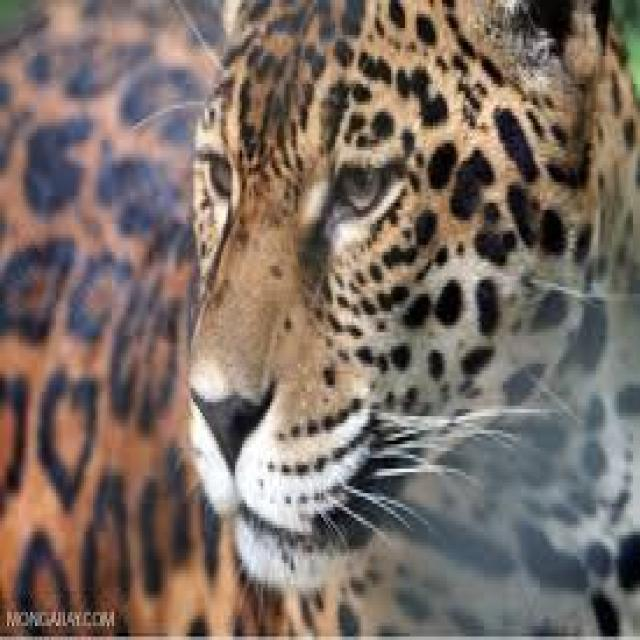Jaguar: (177, 7, 640, 640)
